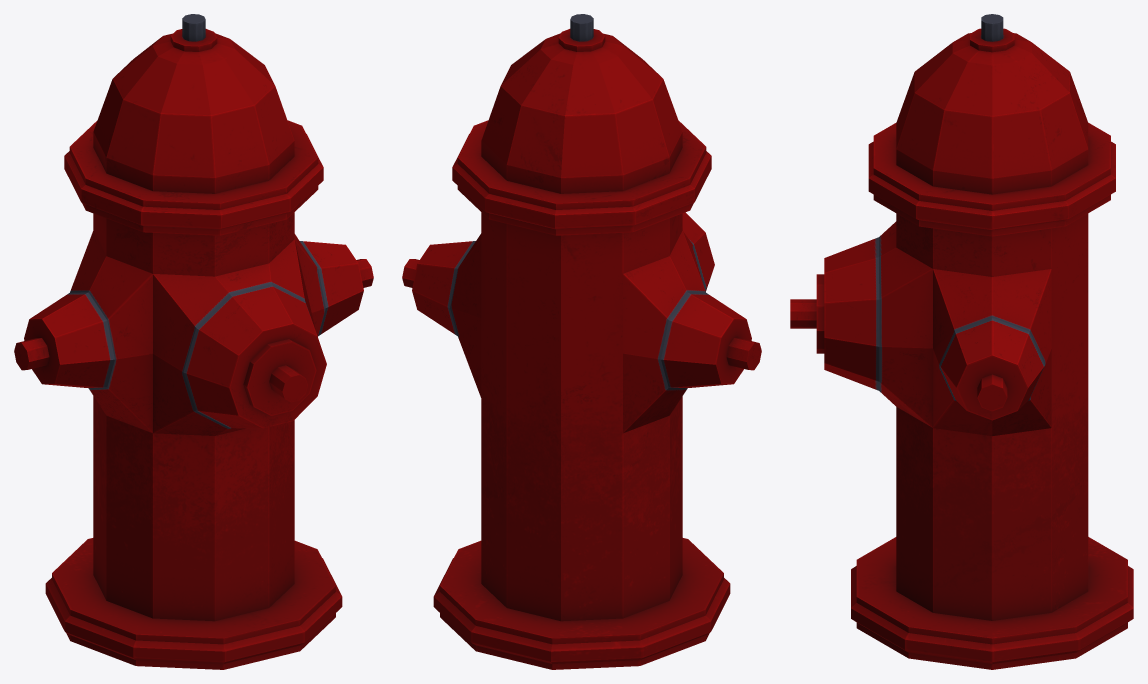
The model's file is fireplug_c58368b5.glb.
3 renders of one model, left to right at view 1: azimuth 30°, elevation 25°; view 2: azimuth 150°, elevation 25°; view 3: azimuth 270°, elevation 25°, orthographic.
Visible parts, largest first — view 1: Object_4; view 2: Object_4; view 3: Object_4.
Boxes of the visible parts, x1,y1,x2,y2 form: Object_4: [14, 14, 373, 669]; Object_4: [402, 14, 761, 669]; Object_4: [790, 14, 1133, 669].
Size of the model in its own units: 0.736 by 1.21 by 0.6367.
Materials: 1 (1 with a texture image).
